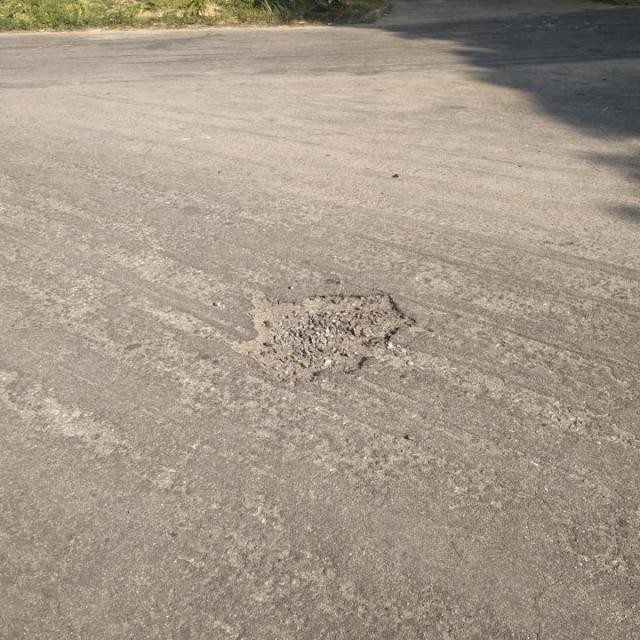Pothole: (231, 286, 421, 385)
